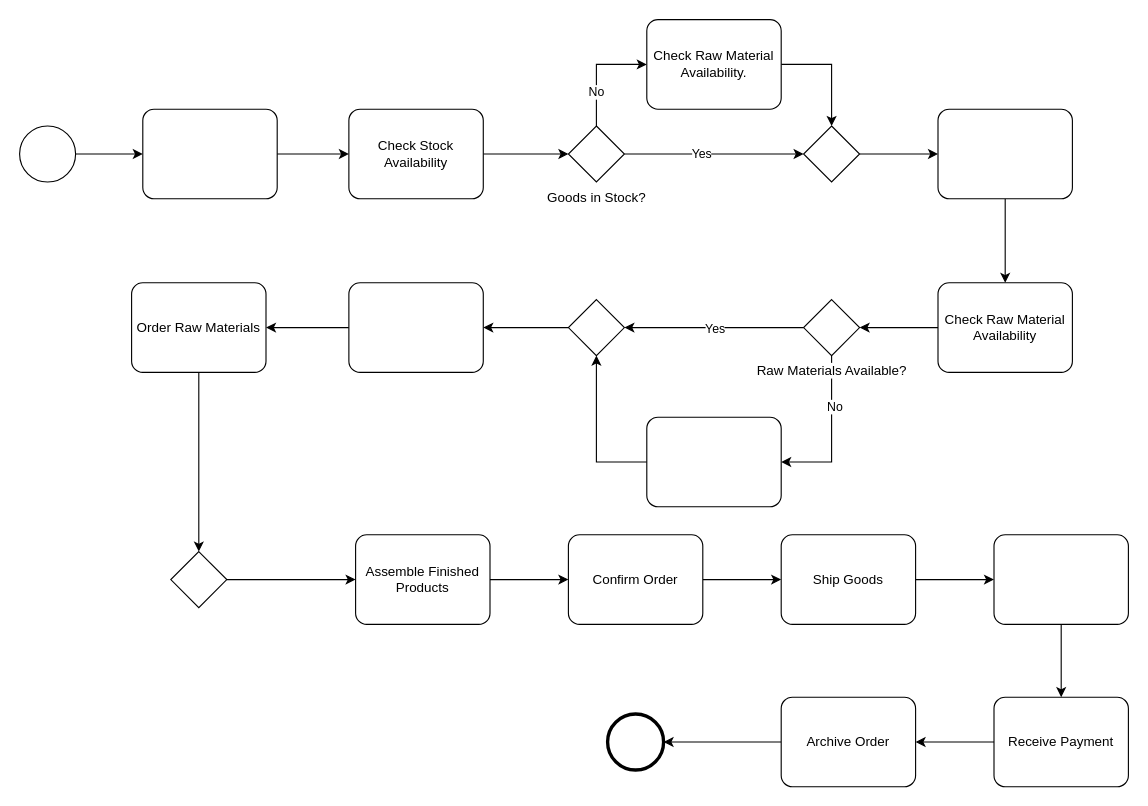
Image size: 1148x806. Some labels were removed from this diagram. The shapes that lost their labels are listed below. From the top down, each one's centre as x and y in pixels, then its label:
the point at 209,153: Receives an order from a customer
the point at 1004,153: Retrieve Goods from Warehouse.
the point at 415,327: Assemble Finished Products.
the point at 713,461: Order Raw Materials from Suppliers.
the point at 198,579: Choose one or both suppliers
the point at 1060,579: Issue Invoice
